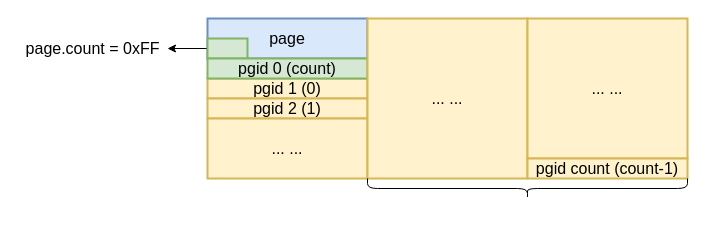
Image size: 705x235. Some labels were removed from this diagram. The shapes that lost their labels are listed below. From the top down, each one's centre as x and y in pixels, then its label:
At (x=227, y=48): "count".
At (x=527, y=188): "overflow".
